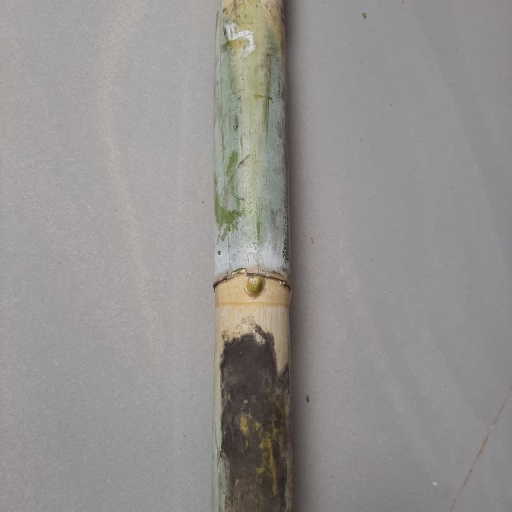Bud: (243, 273, 266, 297)
